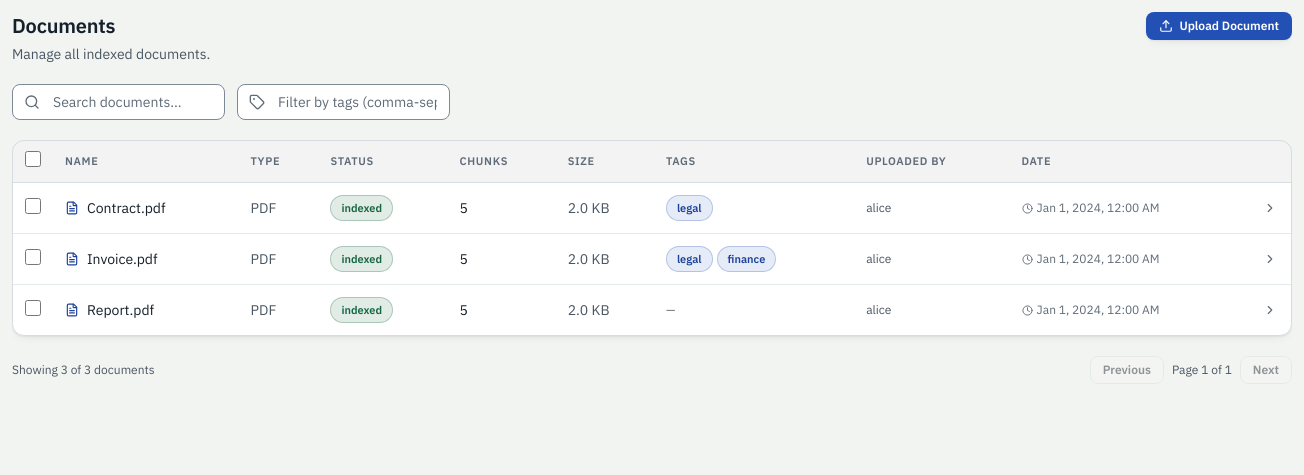
Test: AdminDocumentsPage — bulk document ops › select-all toggles all 3 rows
Expected: the text "Contract.pdf" is shown, [87,198,166,218]
Click the checkbox named "Select all documents" at (33, 159), box [25,151,41,167]
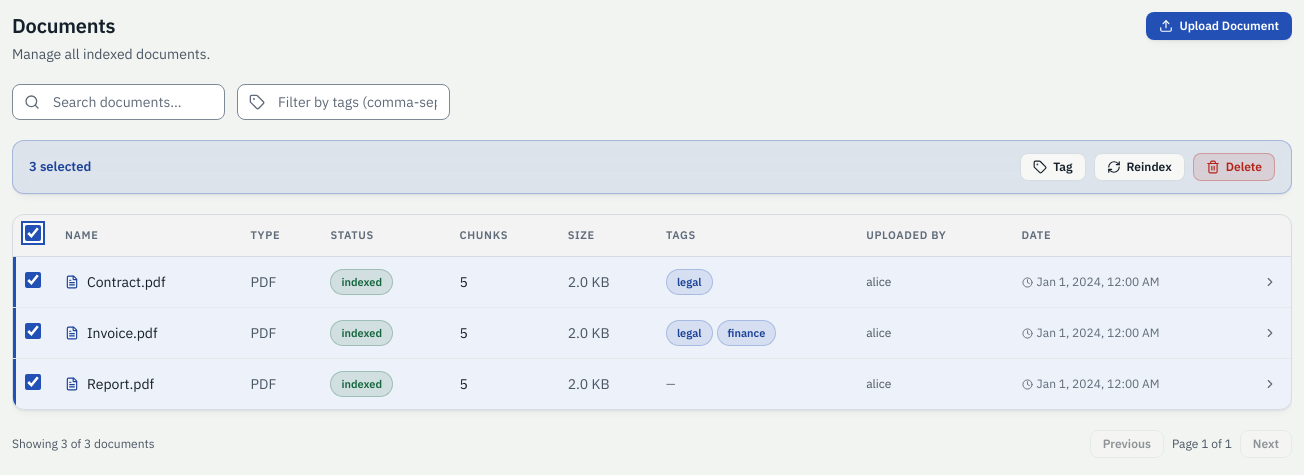
Result: the checkbox named "Select Contract.pdf" is checked at [25,272,41,288]
Result: the checkbox named "Select Invoice.pdf" is checked at [25,322,41,338]
Result: the checkbox named "Select Report.pdf" is checked at [25,374,41,390]
